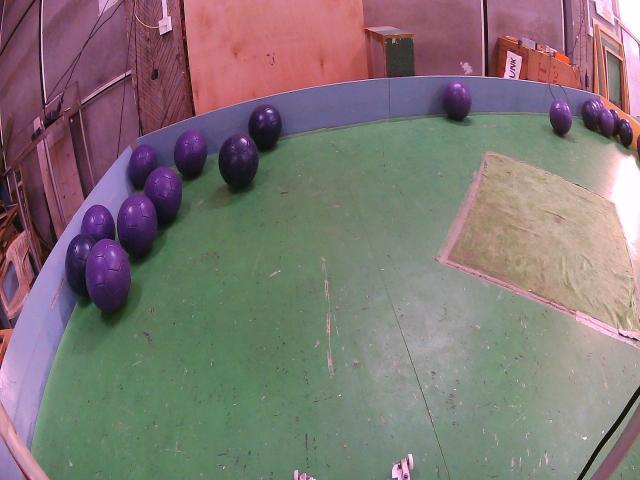jambhalya: (86, 238, 131, 312), (118, 193, 158, 255), (144, 167, 182, 222), (174, 130, 208, 177), (80, 205, 116, 242), (129, 145, 158, 187), (444, 80, 471, 120), (550, 100, 572, 135), (599, 108, 615, 137)
kaalyya: (219, 133, 259, 188), (65, 233, 95, 297), (249, 105, 282, 150), (581, 98, 600, 131), (619, 118, 632, 147), (610, 110, 620, 137)
